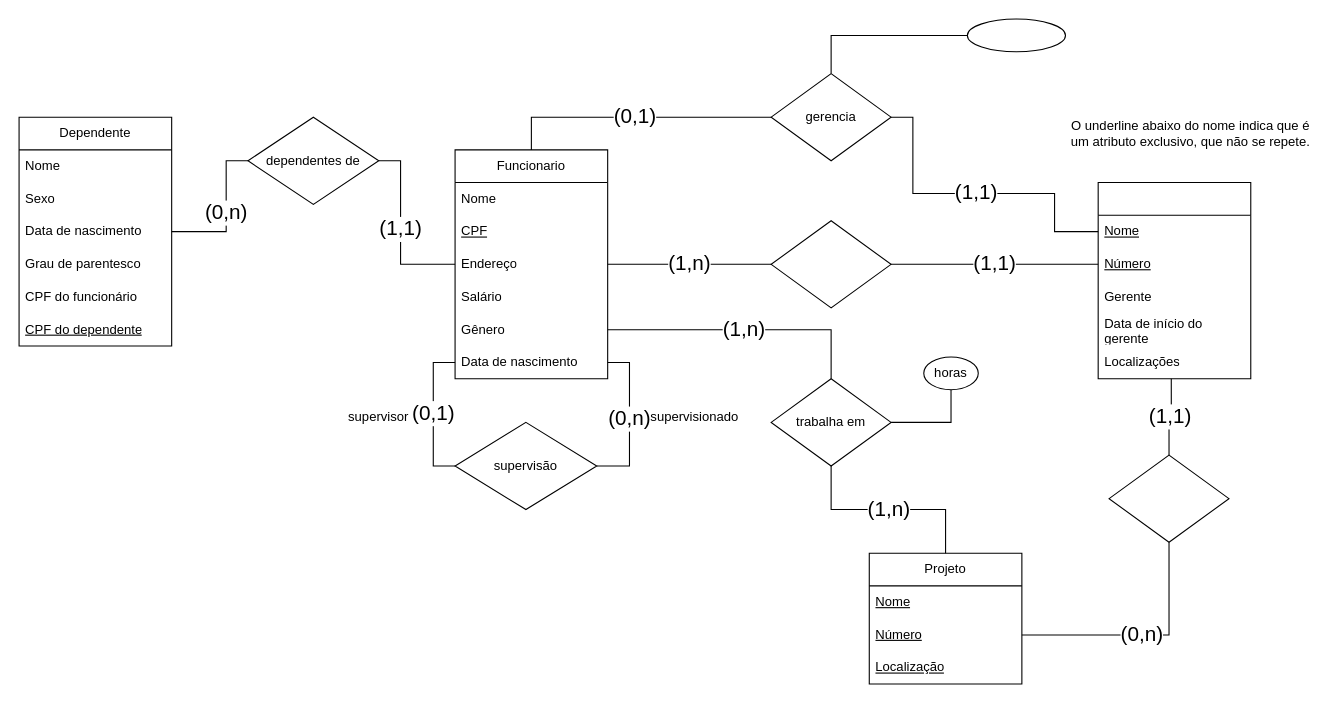
The diagram is 1335 pixels wide and 703 high, and some of its shapes have lost their labels. The box of each missing label's shape, as (x1, y1, x2, y2) in pixels:
controla: (1108, 454, 1229, 542)
data_inicio: (966, 18, 1065, 52)
Departamento: (1097, 181, 1251, 379)
trabalha para: (770, 220, 891, 308)
